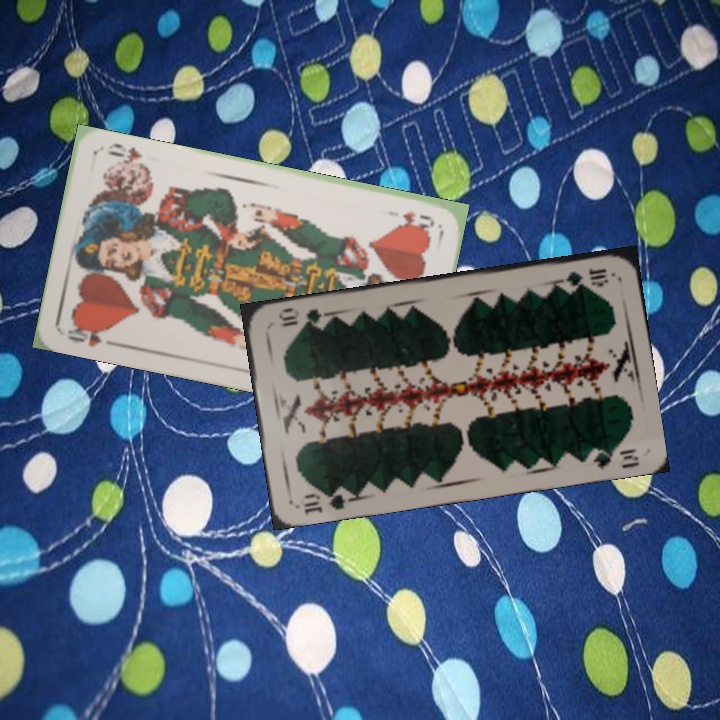G10: (299, 485, 354, 517), (555, 264, 611, 291)
HO: (62, 320, 119, 350), (384, 206, 437, 230)
